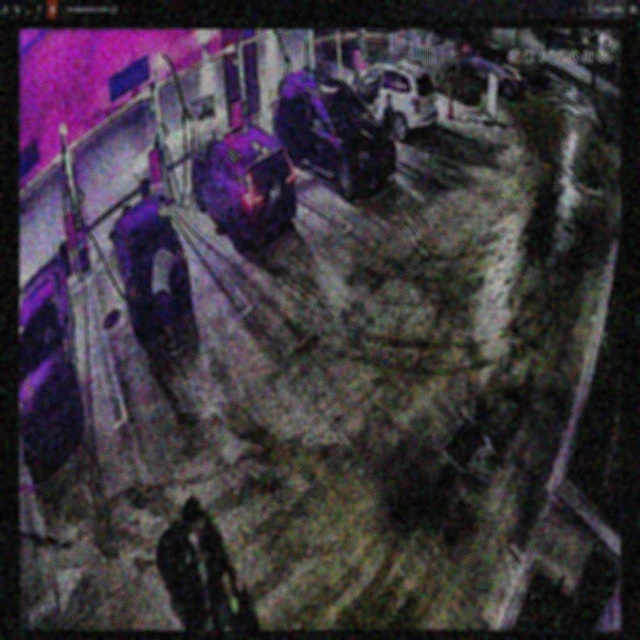Car: (273, 73, 395, 195), (190, 124, 297, 251), (110, 188, 189, 342)
